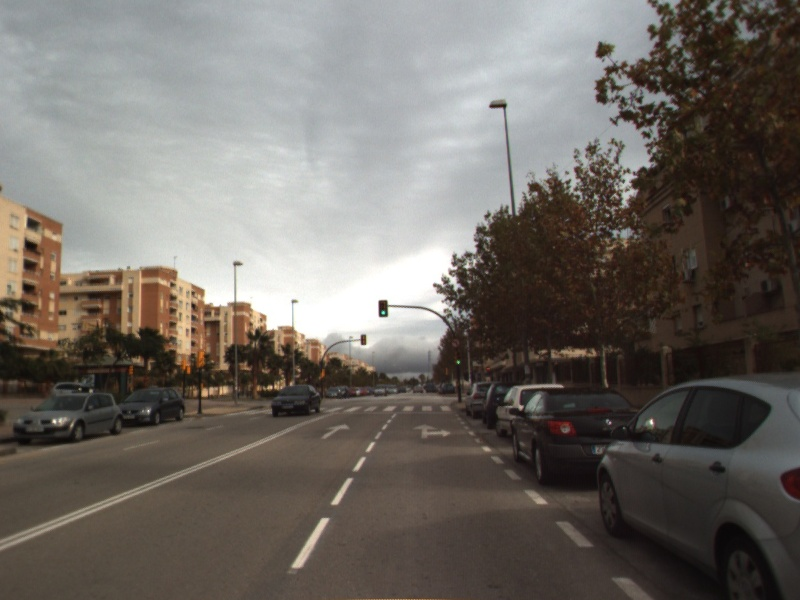STRAIGHT: (319, 422, 352, 441)
STRAIGHT_RIGHT: (411, 422, 453, 440)
